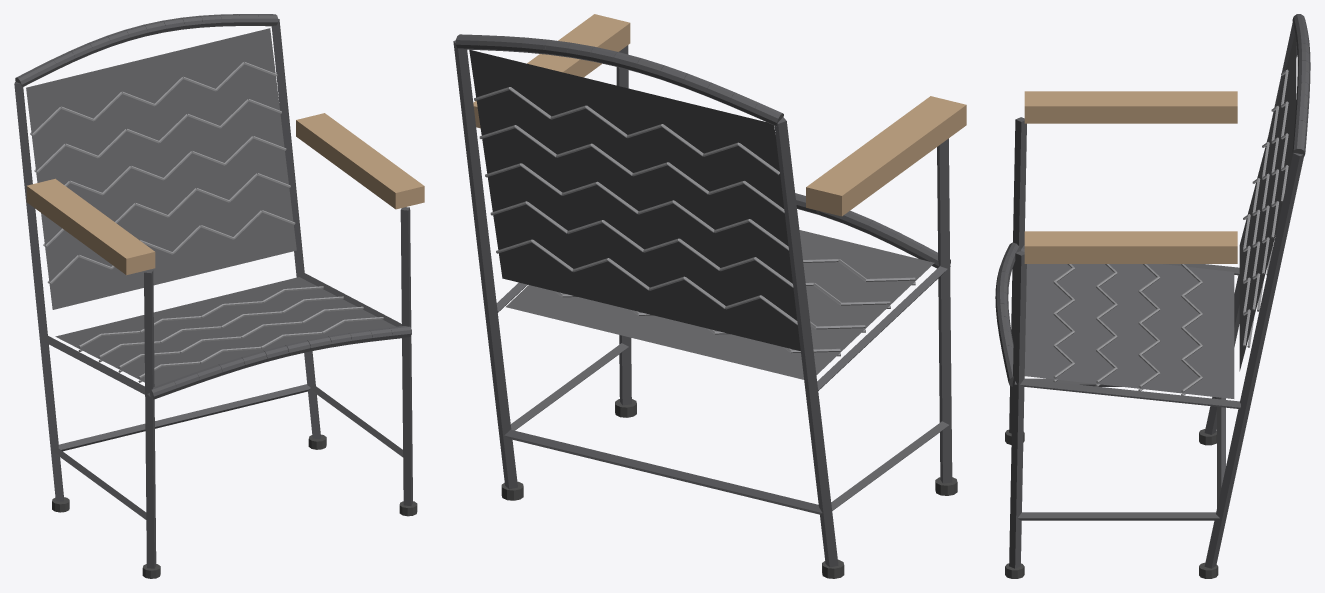
File: g_chair.glb
3 views of the same model, side by side, from view 1: azimuth 30°, elevation 25°; view 2: azimuth 150°, elevation 25°; view 3: azimuth 270°, elevation 25° (orthographic). The views are drawn at different scales.
Visible parts, largest first — view 1: p108, p43, p6, p14, p2, p0, p8, p10, p16, p4, p5, p13 (+1 smaller); view 2: p108, p43, p6, p2, p10, p0, p16, p14, p4, p5, p13, p8; view 3: p43, p14, p6, p108, p10, p8, p0, p12, p13, p2, p16.
Part boxes in pixels (<box>): p108: <box>26,28,296,309</box>; p43: <box>55,277,395,386</box>; p6: <box>26,178,155,275</box>; p14: <box>296,113,424,209</box>; p2: <box>14,82,63,501</box>; p0: <box>144,269,156,568</box>; p8: <box>400,207,412,505</box>; p10: <box>271,19,320,438</box>; p16: <box>58,384,310,451</box>; p4: <box>42,335,150,396</box>; p5: <box>52,447,146,519</box>; p13: <box>310,384,403,457</box>; p108: <box>469,49,800,350</box>; p43: <box>506,230,934,379</box>; p6: <box>806,96,966,216</box>; p2: <box>774,117,838,567</box>; p10: <box>453,40,517,489</box>; p0: <box>937,138,952,483</box>; p16: <box>504,429,822,514</box>; p14: <box>473,14,630,128</box>; p4: <box>817,266,950,390</box>; p5: <box>831,421,948,510</box>; p13: <box>510,343,628,430</box>; p8: <box>616,45,631,405</box>; p43: <box>1021,248,1234,398</box>; p14: <box>1024,231,1237,263</box>; p6: <box>1024,91,1237,123</box>; p108: <box>1239,34,1296,371</box>; p10: <box>1204,153,1303,568</box>; p8: <box>1009,251,1026,568</box>; p0: <box>1009,117,1026,433</box>; p12: <box>1014,379,1240,408</box>; p13: <box>1017,512,1219,520</box>; p2: <box>1204,22,1297,434</box>; p16: <box>1217,397,1225,507</box>.
Size of the model in its own units: 0.569 by 0.7662 by 0.488.
